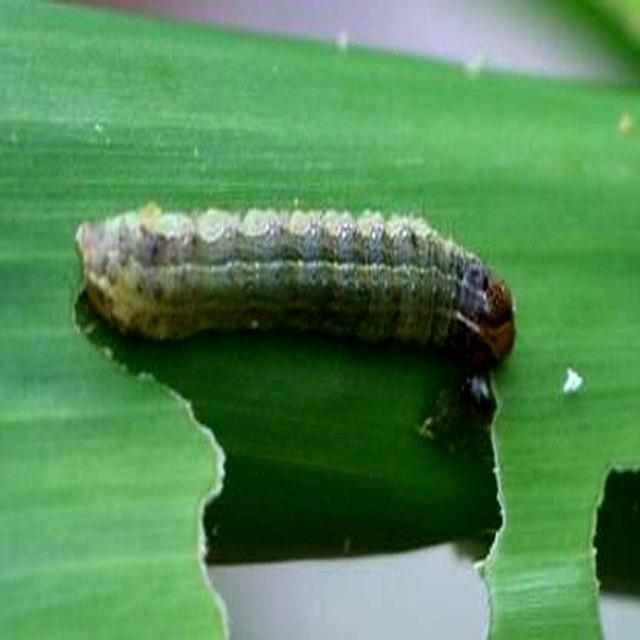worm: (74, 201, 518, 441)
